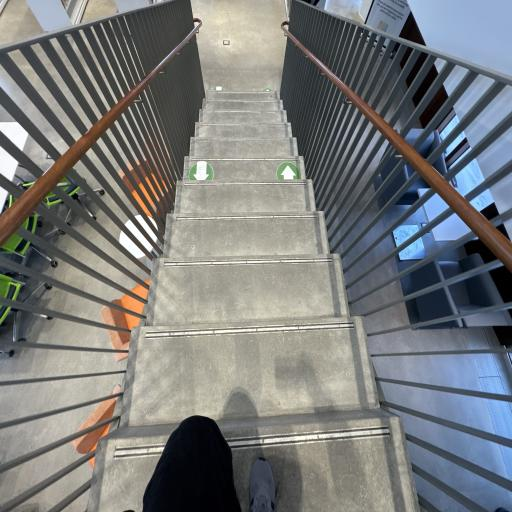Stairs: (88, 91, 419, 512)
